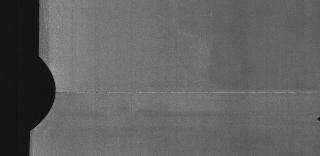welding line: (54, 88, 320, 96)
